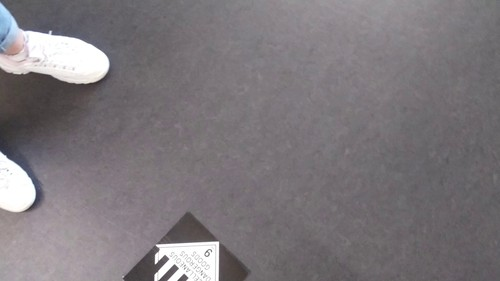misgoods: (148, 235, 225, 281)
